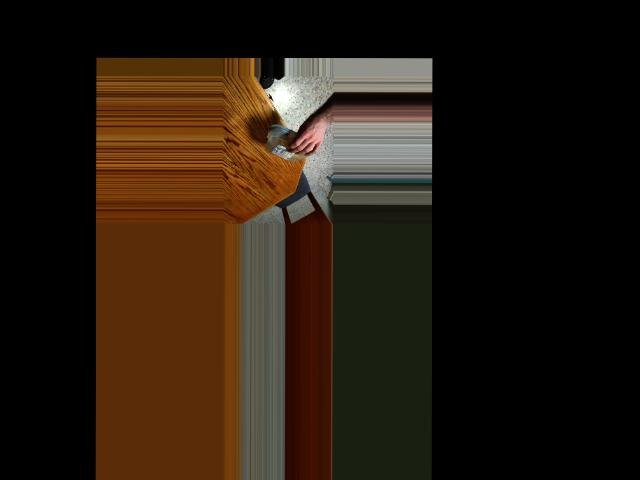cheese: (270, 129, 306, 158)
